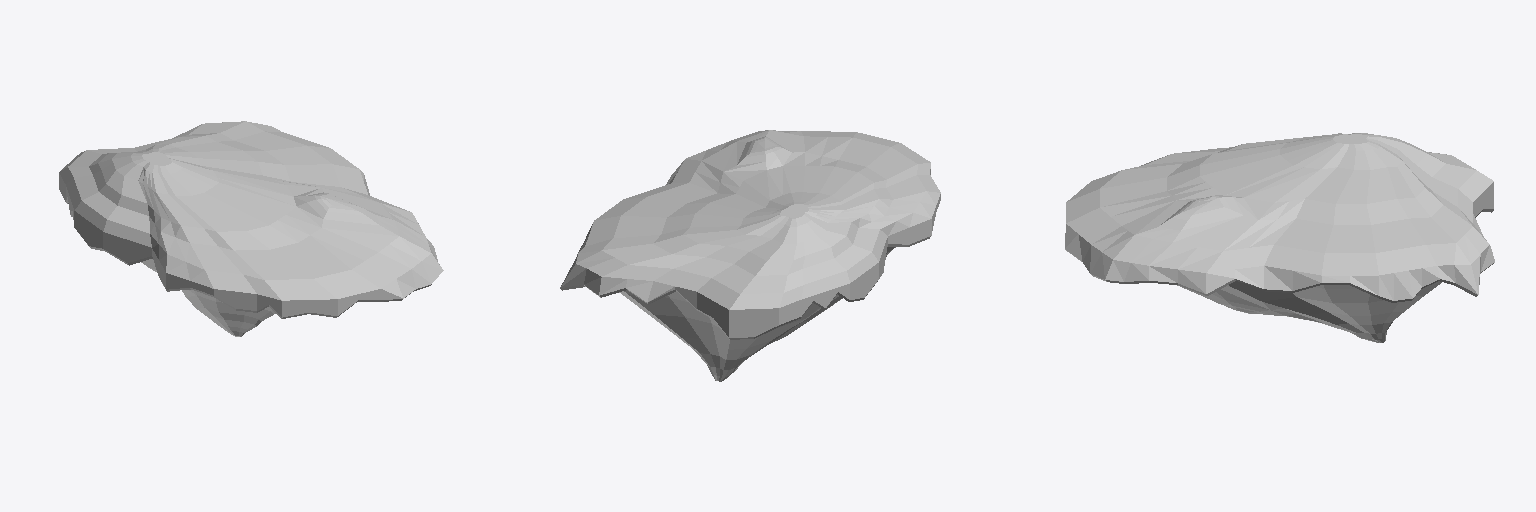
Rendered from island2.obj.
3 renders of one model, left to right at view 1: azimuth 30°, elevation 25°; view 2: azimuth 150°, elevation 25°; view 3: azimuth 270°, elevation 25°, orthographic.
Visible parts, largest first — view 1: Cube; view 2: Cube; view 3: Cube.
Boxes of the visible parts, x1,y1,x2,y2 form: Cube: [59, 121, 443, 336]; Cube: [560, 130, 940, 381]; Cube: [1065, 133, 1494, 342].
Bounding box in the file's own units: 20.42 × 12.76 × 28.89.